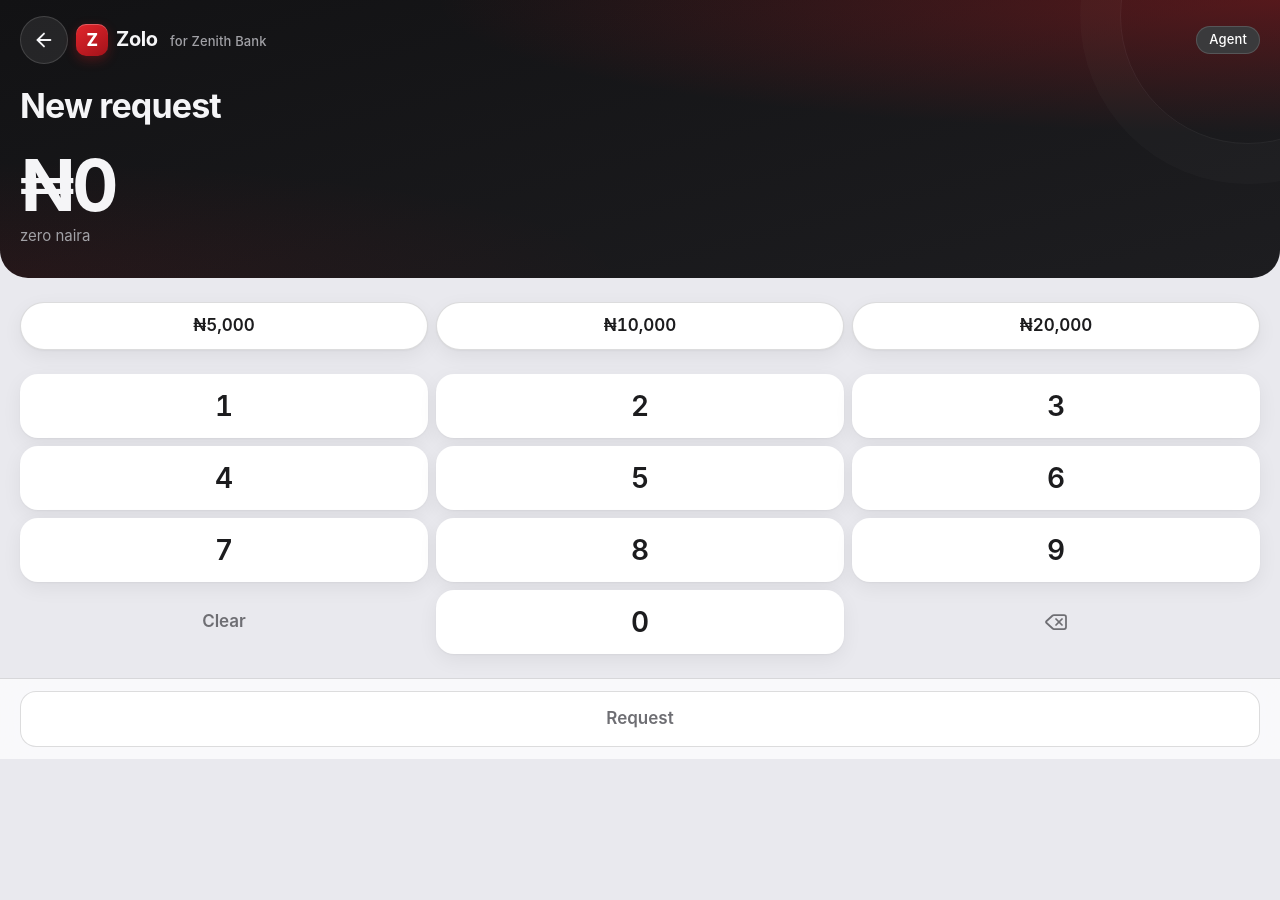
Test case: Agent: new request › quick chips set the amount
The width and height of the screenshot is (1280, 900).
Click the button named "Set the amount to ten thousand naira".
click(640, 326)  # box [436,302,844,350]
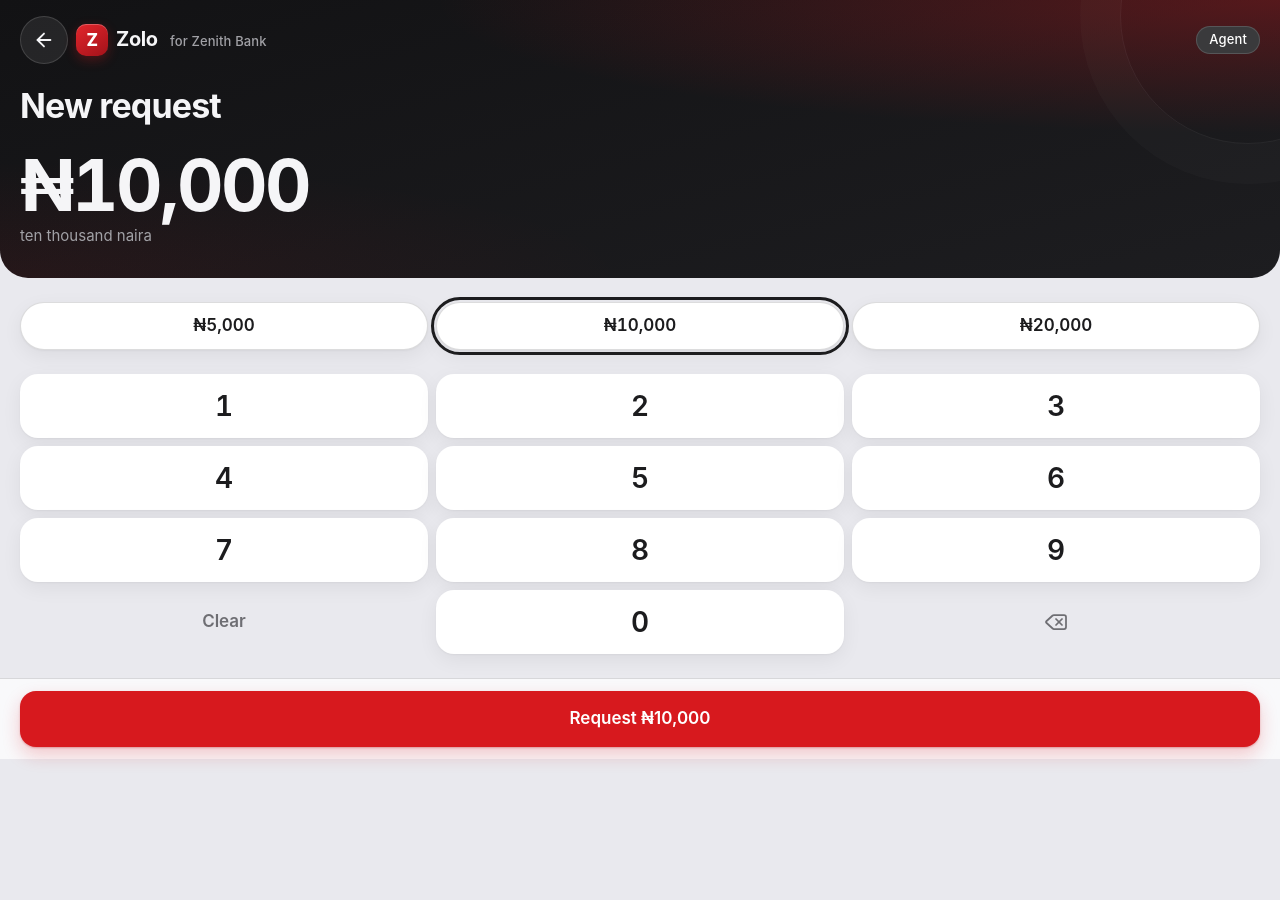
Expected: the text "ten thousand naira" is shown, [20,226,152,245]
